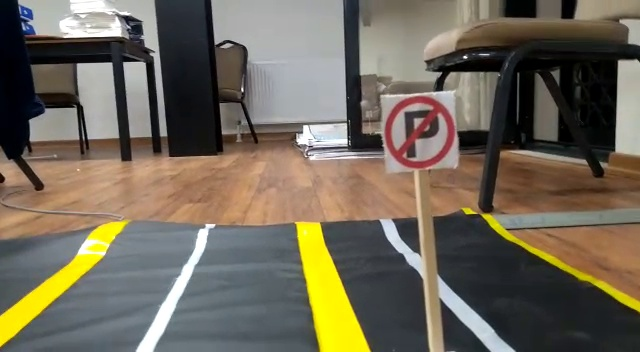park_yapilmaz: (377, 89, 458, 169)
